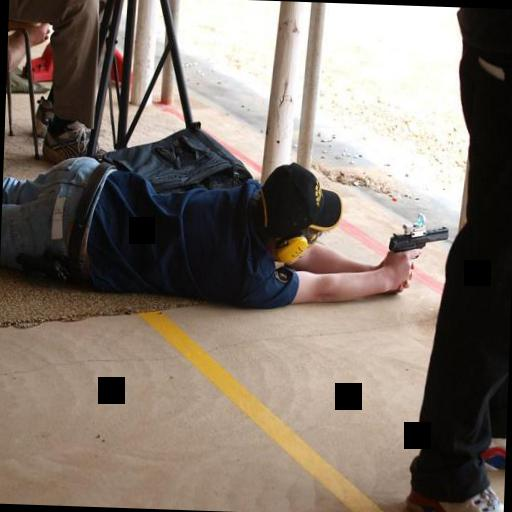Handgun: (386, 210, 451, 262)
